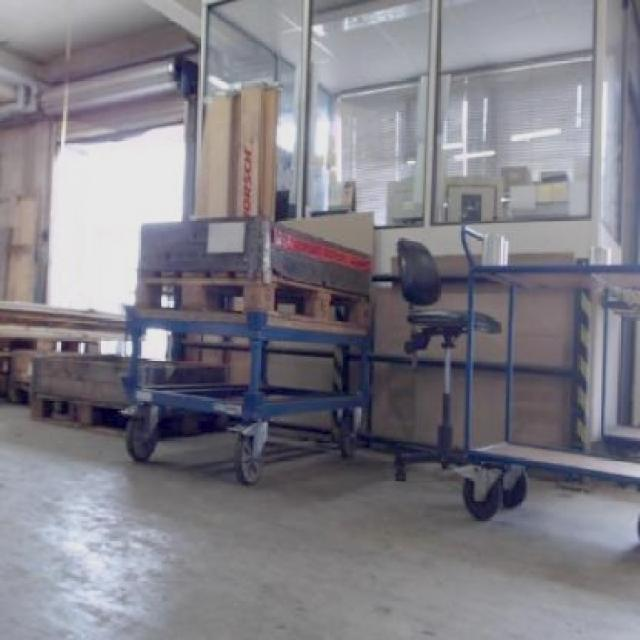floor: (0, 403, 637, 637)
pallets: (125, 212, 371, 480), (458, 225, 637, 515), (29, 352, 126, 423), (140, 358, 222, 382), (157, 408, 226, 434), (137, 325, 169, 365)
